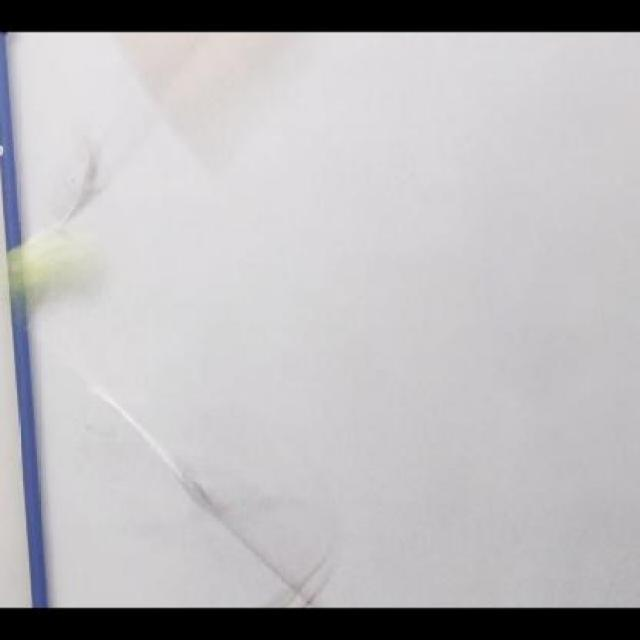baseball: (41, 234, 57, 315)
